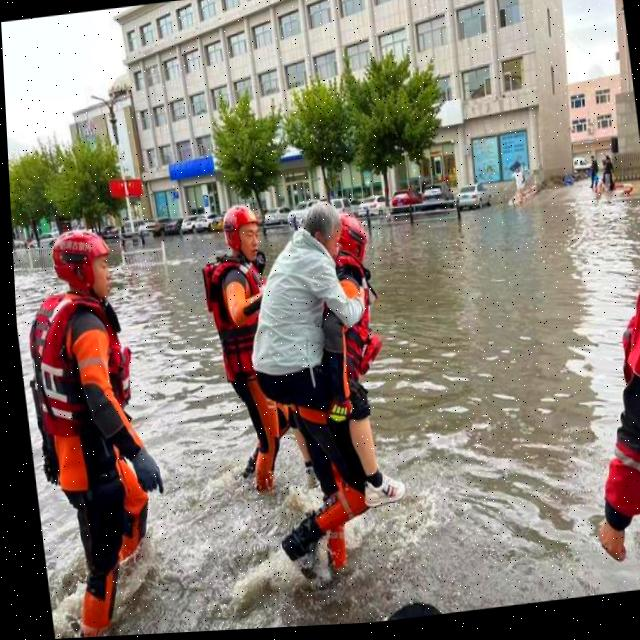civilian: (235, 185, 416, 530)
rescuer: (12, 211, 181, 640), (240, 203, 417, 597), (190, 193, 295, 502), (559, 251, 640, 595)
